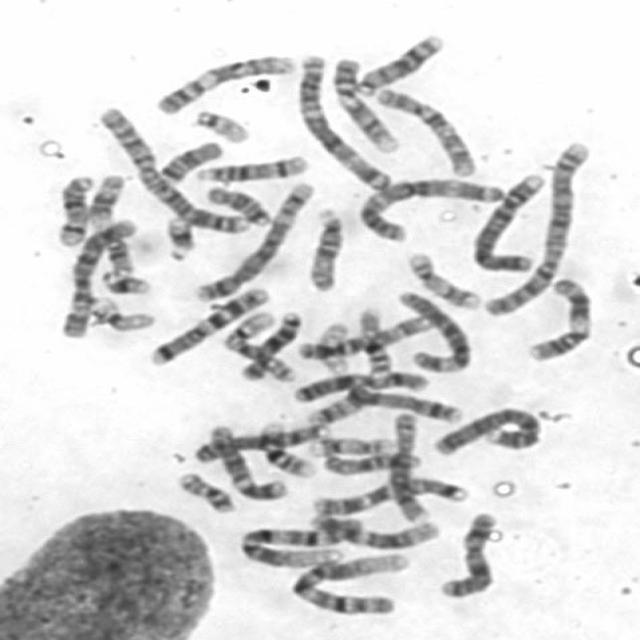A1: (284, 546, 414, 617), (233, 514, 360, 568)
A2: (91, 100, 254, 237), (476, 136, 594, 318)
A3: (290, 48, 396, 194), (350, 171, 508, 243)
B4: (467, 168, 549, 274), (428, 400, 546, 457)
B5: (188, 176, 318, 304), (293, 374, 465, 424)
C10: (370, 80, 480, 178), (292, 312, 435, 361)
C11: (522, 270, 597, 364), (84, 170, 138, 276)
C12: (205, 419, 290, 501), (303, 508, 443, 552)
C6: (55, 212, 139, 340), (391, 284, 475, 374)
C7: (143, 281, 274, 366), (304, 470, 471, 518)
C8: (187, 418, 332, 464), (383, 405, 428, 524)
C9: (151, 48, 300, 116), (327, 51, 404, 153)
D13: (351, 28, 447, 97), (234, 305, 304, 382)
D14: (190, 149, 312, 185), (51, 168, 98, 248)
D15: (301, 202, 347, 293), (316, 446, 423, 477)
E16: (253, 415, 321, 479), (354, 303, 396, 378)
E17: (402, 246, 484, 311), (303, 431, 396, 458)
E18: (201, 180, 276, 228), (154, 134, 226, 184)
F19: (82, 292, 158, 334), (312, 316, 353, 374)
F20: (220, 334, 298, 384), (171, 466, 240, 514)
G21: (159, 210, 201, 262), (95, 265, 154, 296)
G22: (188, 103, 253, 144), (218, 304, 279, 347)
X: (435, 505, 504, 599), (288, 366, 431, 404)
